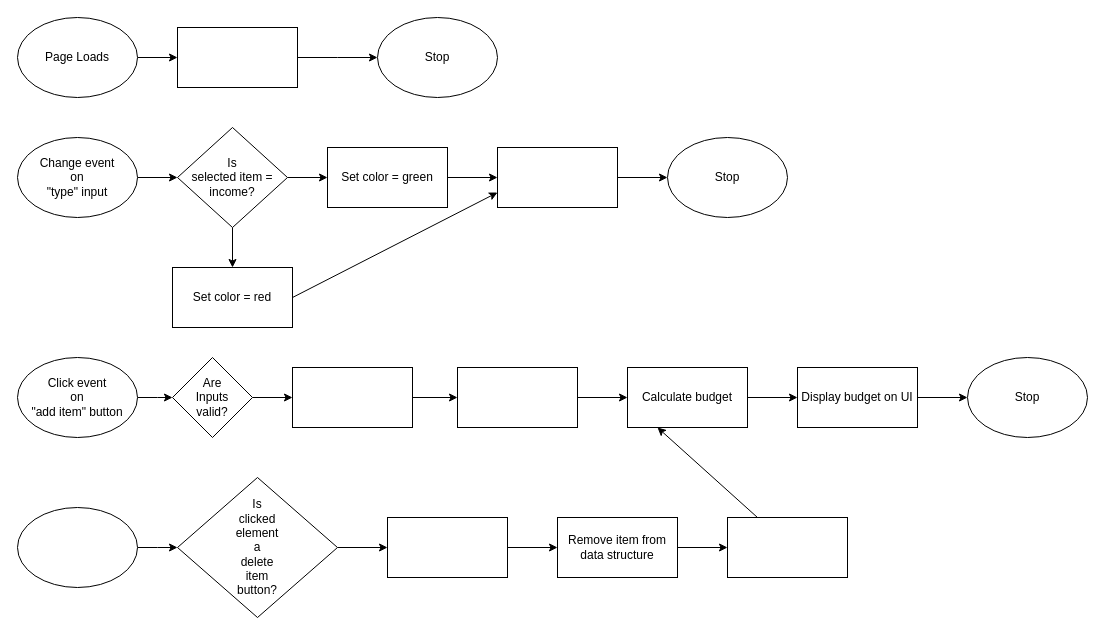
The diagram is 1105 pixels wide and 635 high, and some of its shapes have lost their labels. Each missing label, with the centre of its shape:
"Add item to data structure" belongs at (352,397).
"Add item to user interface" belongs at (517,397).
"Click event on container of both lists" belongs at (77,547).
"Display Date" belongs at (237,57).
"Find list item in data sturcture" belongs at (447,547).
"Make changes to input elements" belongs at (557,177).
"Remove item from UI" belongs at (787,547).
